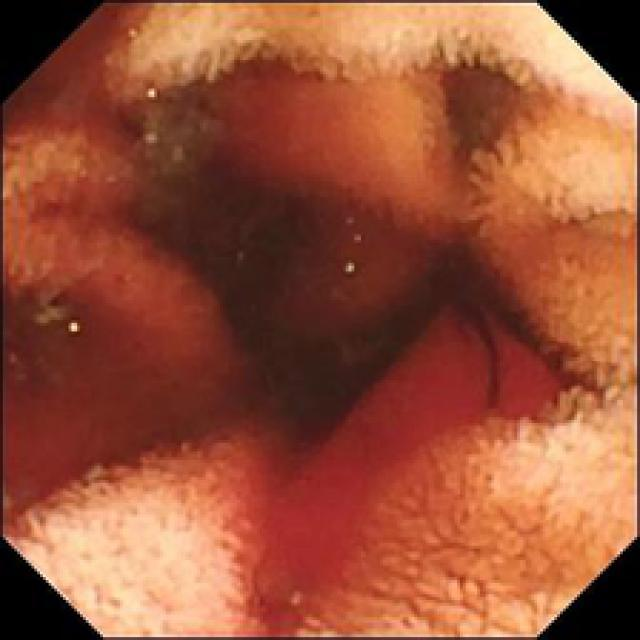bleeding: (224, 220, 561, 629), (0, 0, 212, 513)
